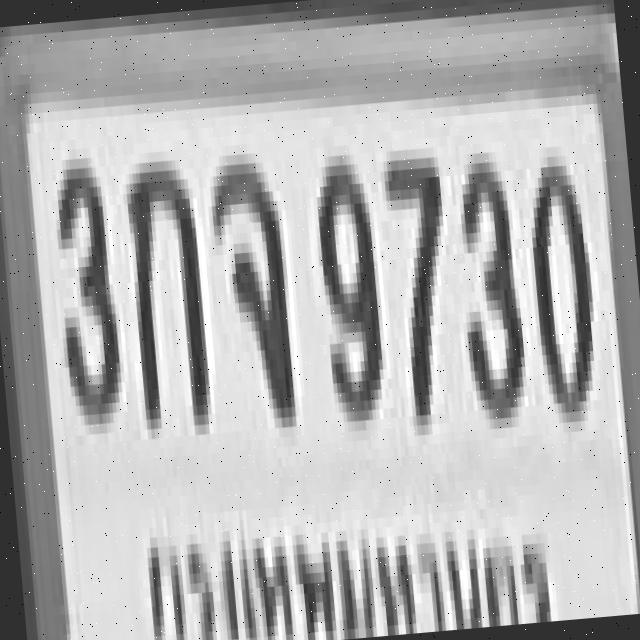0: (521, 144, 598, 414)
10GorGai: (120, 149, 208, 420)
17ChorChan: (204, 146, 292, 417)
3: (447, 142, 525, 420), (43, 146, 120, 416)
7: (378, 147, 456, 417)
9: (308, 144, 382, 412)
Bangkok: (125, 473, 562, 640)
